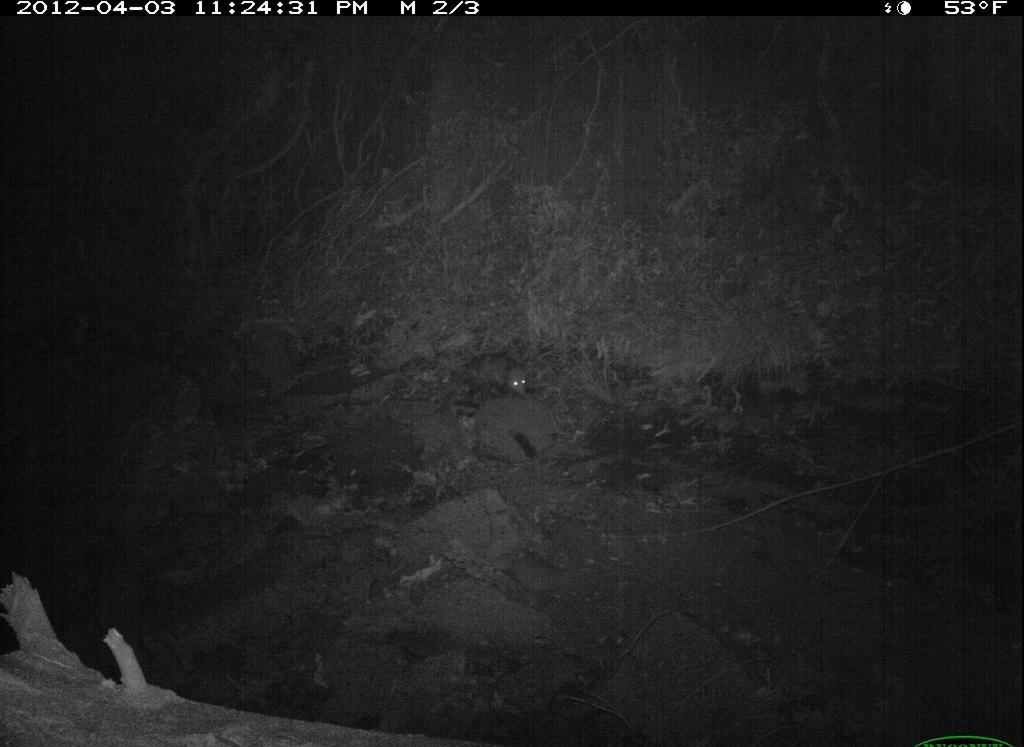opossum: (468, 341, 536, 401)
